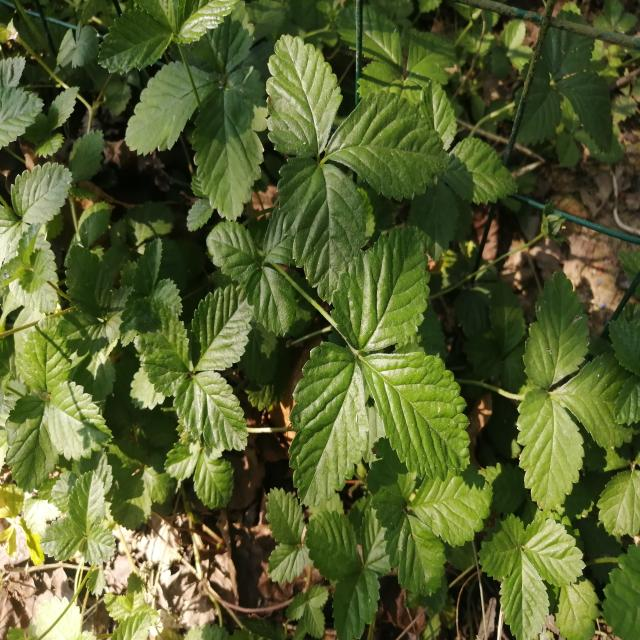Mock_strawberry: (280, 247, 473, 498), (264, 30, 430, 277), (127, 266, 269, 513)
